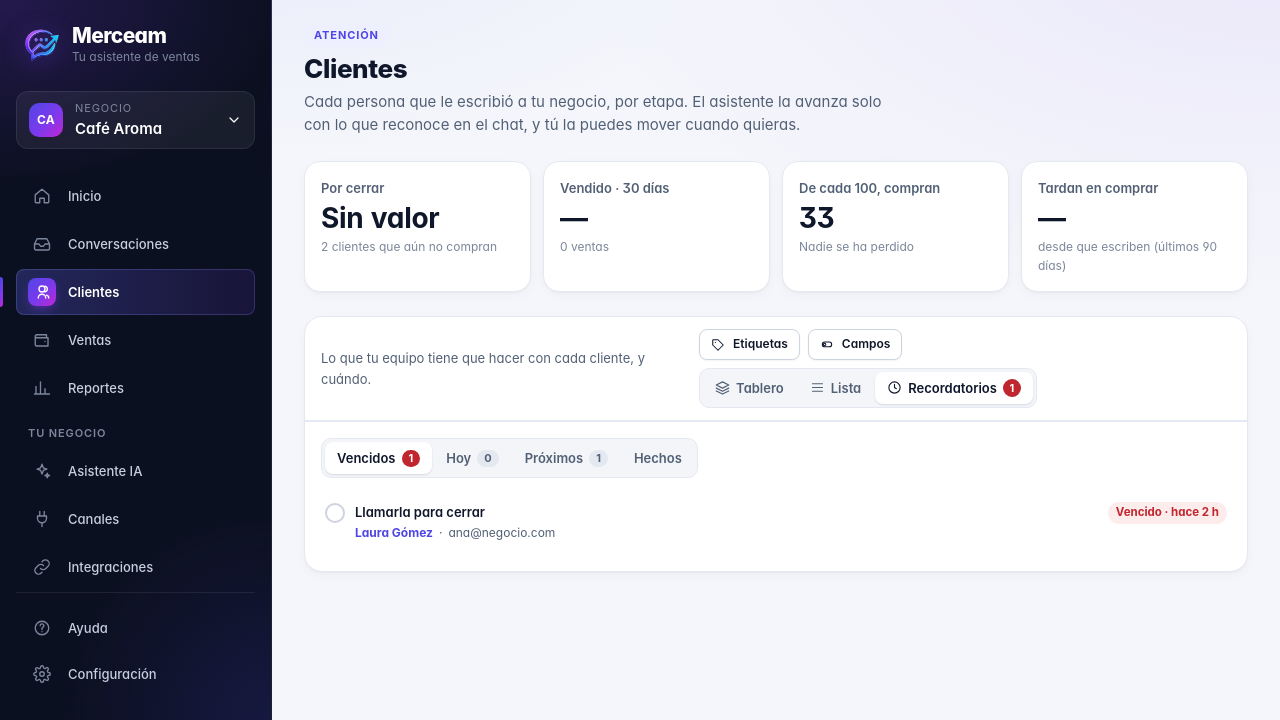
Test: Los recordatorios del equipo › «Míos» muestra solo los de quien mira; sin cuentas no se pregunta
expect the heading "Clientes" is shown: met, box [304, 53, 910, 84]
expect the element named "Cuándo" is shown: met, box [321, 438, 698, 478]
Click the button "Próximos 1".
click(566, 458)  # box [513, 442, 620, 474]
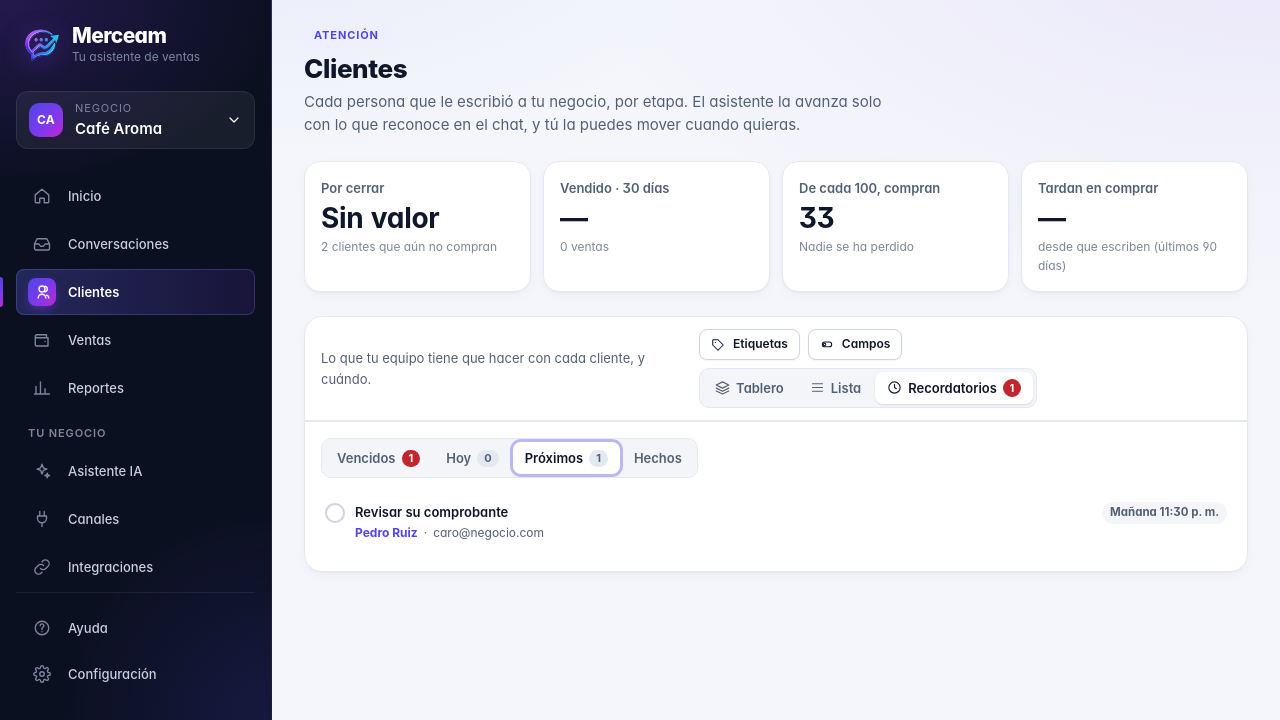
expect the text "Revisar su comprobante" is shown: met, box [355, 504, 508, 520]
